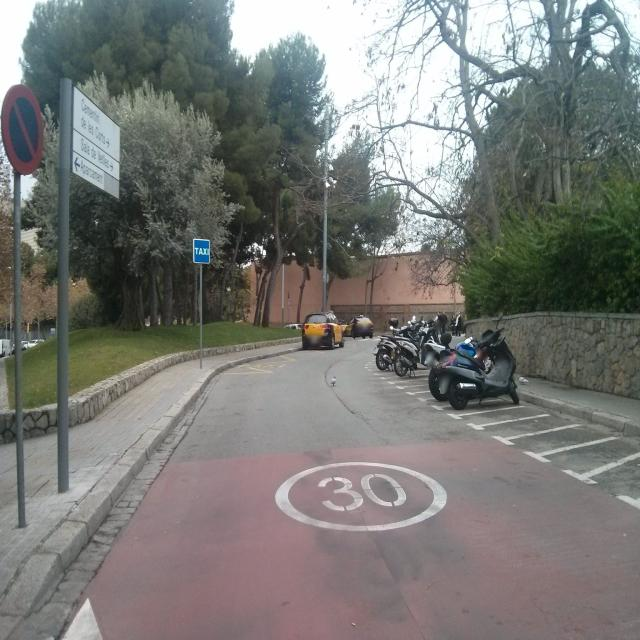forb_stopping: (0, 76, 43, 171)
